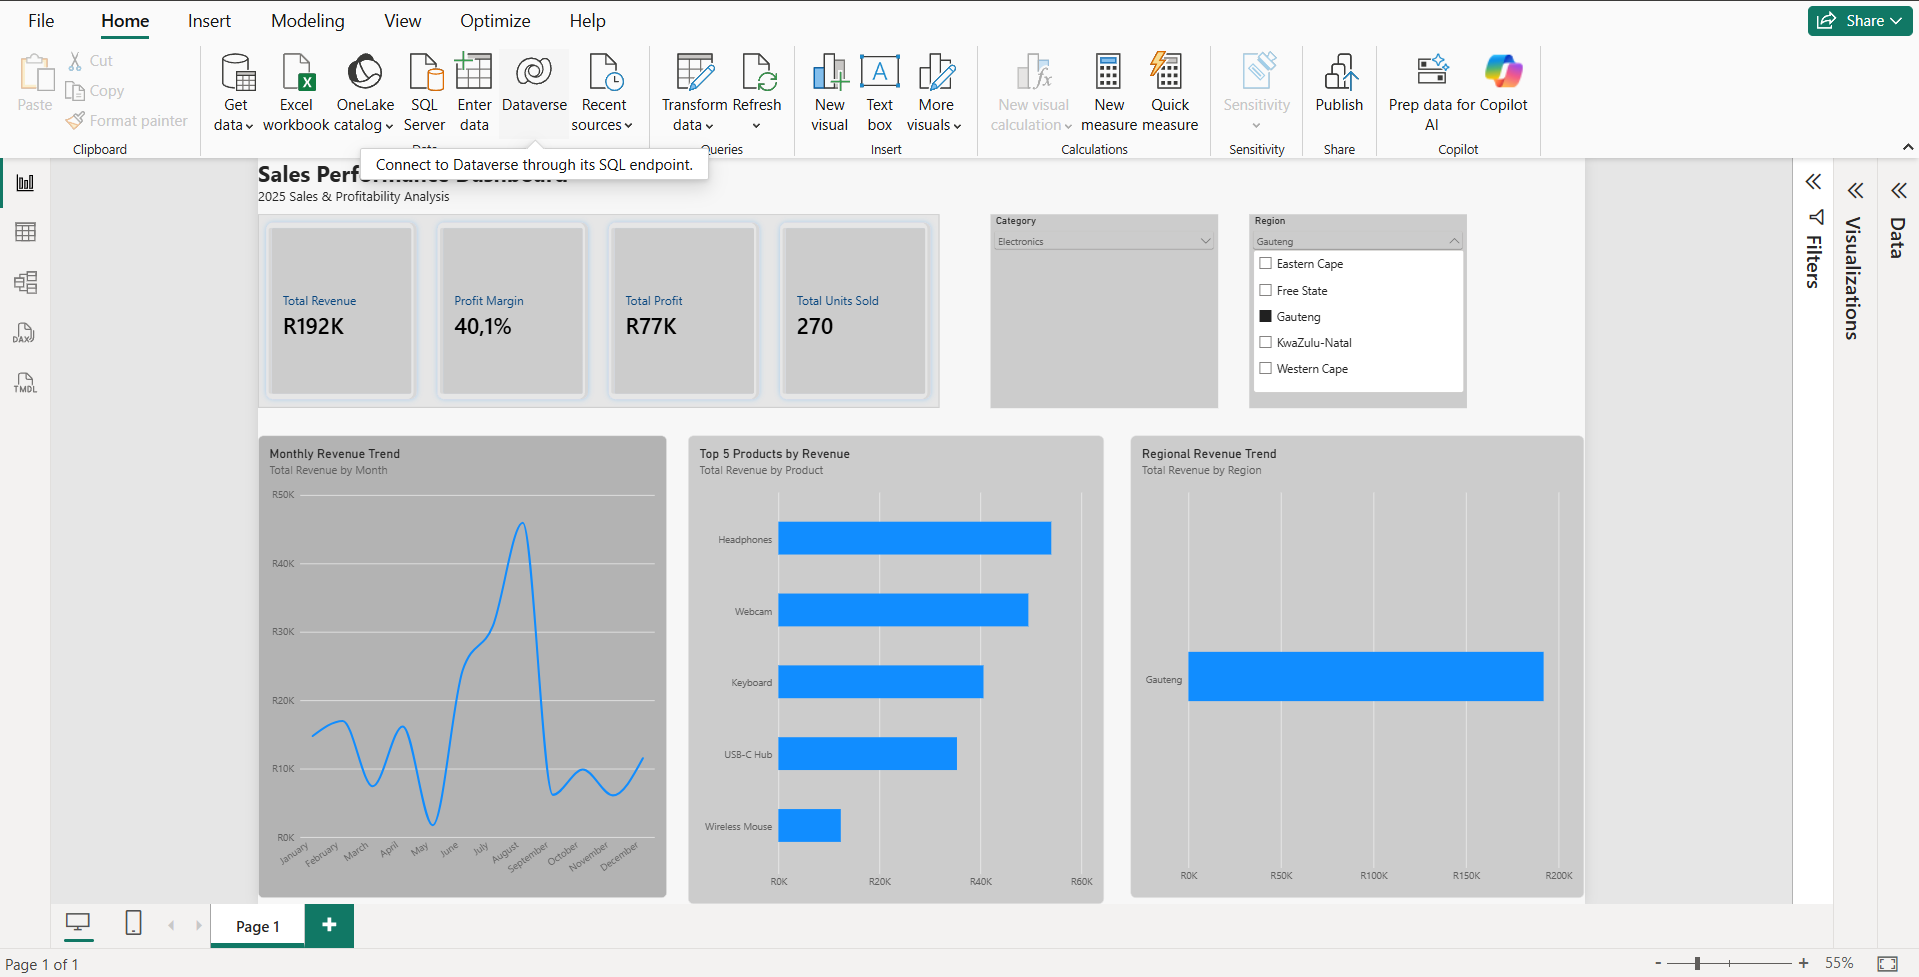

What the dashboard file says about the page in this screenshot:
{"tool":"powerbi","page":{"name":"Page 1","canvas":[1920,1080],"ordinal":0},"visuals":[{"type":"cardVisual","fields":{"Data":["Sales_Data.Total Revenue","Sales_Data.Profit Margin","Sales_Data.Total Profit","Sales_Data.Total Units Sold"]},"box":[0,81.2,988.1,280.5],"z":0},{"type":"lineChart","title":"Monthly Revenue Trend","fields":{"Category":["Sales_Data.Order Date.Variation.Date Hierarchy.Year","Sales_Data.Order Date.Variation.Date Hierarchy.Quarter","Sales_Data.Order Date.Variation.Date Hierarchy.Month","Sales_Data.Order Date.Variation.Date Hierarchy.Day"],"Y":["Sales_Data.Total Revenue"]},"box":[0,401.7,591.8,669.6],"z":1},{"type":"clusteredBarChart","title":"Regional Revenue Trend","fields":{"Category":["Sales_Data.Region"],"Y":["Sales_Data.Total Revenue"]},"box":[1263.1,401.7,656.9,669.6],"z":2},{"type":"clusteredBarChart","title":"Top 5 Products by Revenue","fields":{"Category":["Sales_Data.Product"],"Y":["Sales_Data.Total Revenue"]},"box":[622.5,401.7,602.6,678.6],"z":3},{"type":"slicer","fields":{"Values":["Sales_Data.Region"]},"box":[1435.1,81.4,314.9,280.5],"z":4},{"type":"slicer","fields":{"Values":["Sales_Data.Category"]},"box":[1060.5,81.4,329.4,280.5],"z":5},{"type":"textbox","box":[0,0,470.5,161.1],"z":6}]}

Visuals, with their boxes on the page's 1920x1080 design canvas (x1, y1, x2, y2). These are canvas units, not pixel positions in the 1919x977 screenshot, which may show the page scaled, cropped or inside an application window:
cardVisual - Sales_Data.Total Revenue x Sales_Data.Profit Margin: bbox(0, 81, 988, 362)
"Monthly Revenue Trend" lineChart: bbox(0, 402, 592, 1071)
"Regional Revenue Trend" clusteredBarChart: bbox(1263, 402, 1920, 1071)
"Top 5 Products by Revenue" clusteredBarChart: bbox(622, 402, 1225, 1080)
slicer - Sales_Data.Region: bbox(1435, 81, 1750, 362)
slicer - Sales_Data.Category: bbox(1060, 81, 1390, 362)
textbox: bbox(0, 0, 470, 161)
